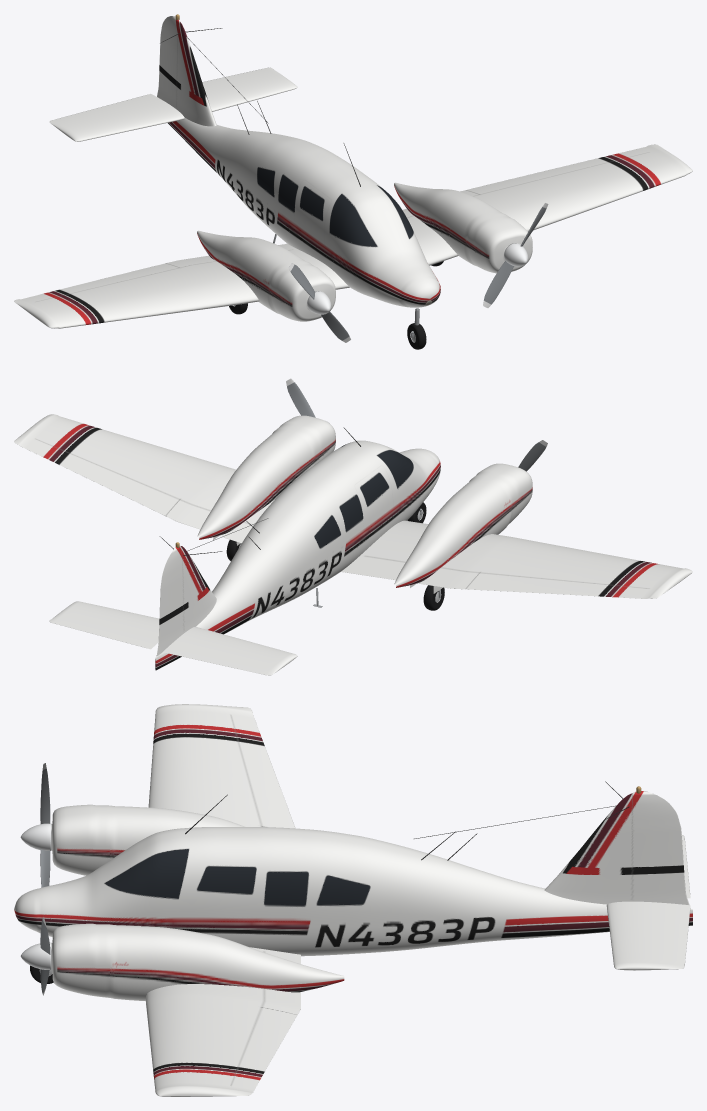
3 renders of one model, top to bottom at view 1: azimuth 30°, elevation 25°; view 2: azimuth 150°, elevation 25°; view 3: azimuth 270°, elevation 25°, orthographic. The views are drawn at different scales.
Parts seen in each view (by area): view 1: fuselage, wing_R, wing_L, nacelle_L, nacelle_R, fin, stab_R, stab_L, prop_L_blade1; view 2: fuselage, wing_R, wing_L, nacelle_R, nacelle_L, fin, stab_R, stab_L, prop_L_blade0; view 3: fuselage, nacelle_L, wing_L, wing_R, fin, nacelle_R, stab_L, spinner_R.
Boxes of the visible parts, box(x1,y1,x2,y2) form: fuselage: box(168, 118, 440, 307); wing_R: box(14, 243, 349, 328); wing_L: box(402, 144, 692, 265); nacelle_L: box(394, 182, 532, 273); nacelle_R: box(197, 230, 335, 321); fin: box(157, 16, 216, 126); stab_R: box(49, 94, 184, 141); stab_L: box(202, 67, 297, 111); prop_L_blade1: box(484, 261, 513, 304); fuselage: box(155, 440, 440, 670); wing_R: box(341, 520, 692, 598); wing_L: box(14, 414, 274, 543); nacelle_R: box(394, 463, 532, 587); nacelle_L: box(197, 415, 335, 539); fin: box(156, 546, 216, 656); stab_R: box(163, 626, 297, 675); stab_L: box(49, 601, 159, 649); prop_L_blade0: box(287, 382, 315, 417); fuselage: box(14, 827, 692, 956); nacelle_L: box(51, 923, 344, 1001); wing_L: box(146, 947, 300, 1096); wing_R: box(148, 704, 295, 828); fin: box(544, 791, 690, 908); nacelle_R: box(51, 804, 244, 875); stab_L: box(606, 901, 690, 970); spinner_R: box(20, 823, 51, 850).
Size of the model in its own units: 11.28 by 2.66 by 8.32.
12 materials, 1 textured.
